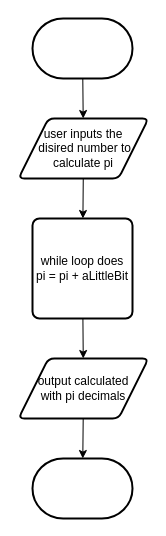
This 166x536 diagram has some shape labels left out. The shapes that lost their labels are listed below. From the top down, each one's centre as x and y in pixels, then its label:
(x=82, y=48): Start
(x=82, y=488): Stop
